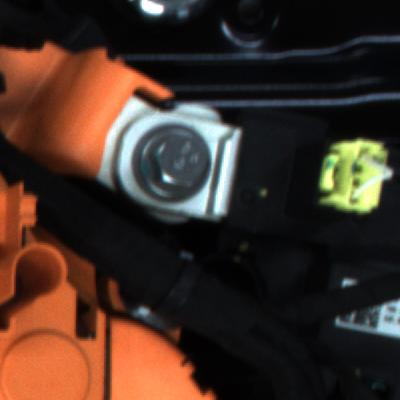nut_b: (128, 119, 218, 213)
